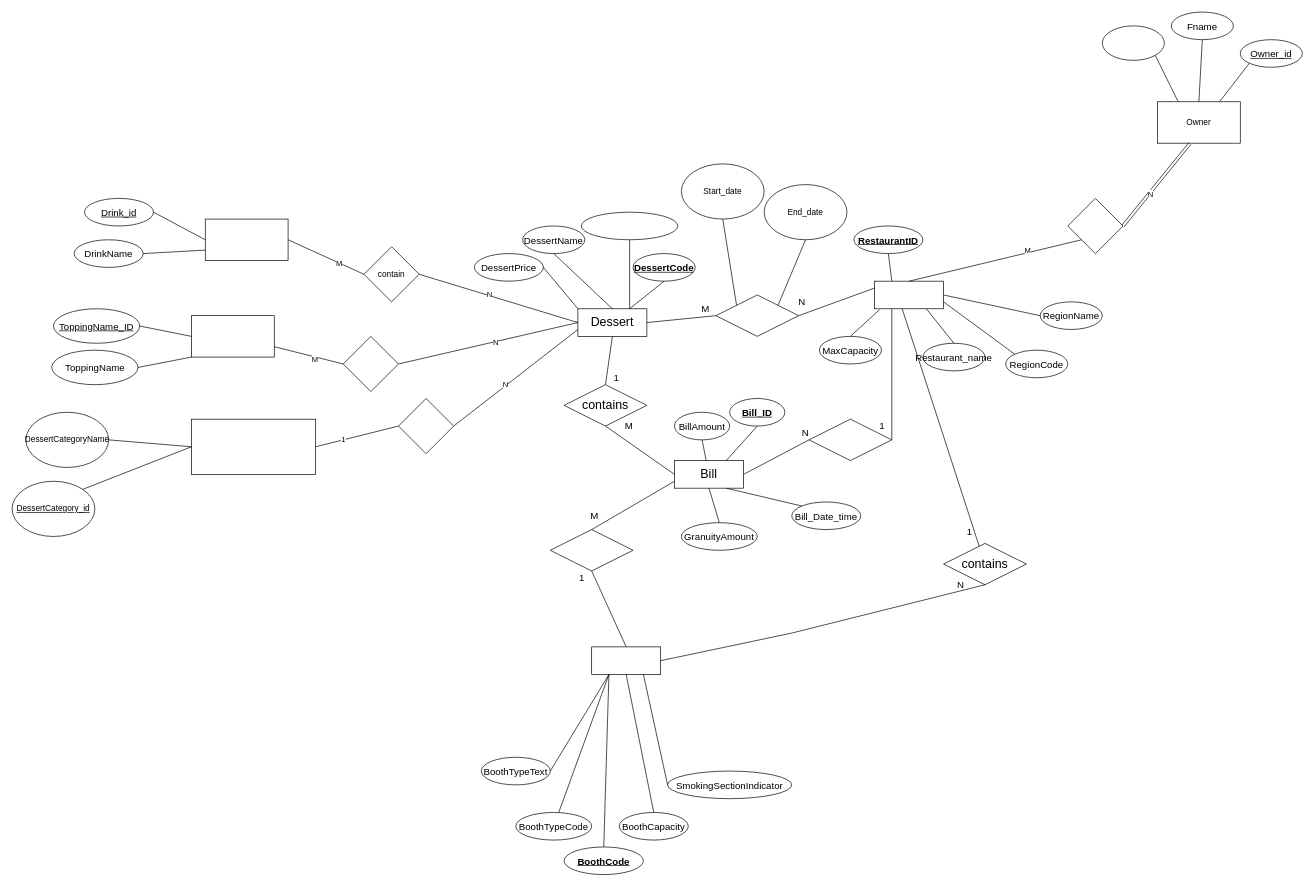
The diagram is 1314 pixels wide and 887 high, and some of its shapes have lost their labels. The box of each missing label's shape, as (x1, y1, x2, y2) in pixels:
Booth: (591, 646, 661, 674)
ddominate: (1067, 198, 1123, 254)
DessertCategory: (191, 418, 316, 474)
DessertDescription: (581, 211, 678, 240)
Drink: (205, 218, 288, 260)
Ename: (1102, 25, 1164, 60)
generate: (550, 529, 633, 571)
has: (398, 398, 454, 454)
offer: (715, 294, 799, 336)
process: (808, 418, 892, 461)
provide: (343, 336, 398, 392)
Restaurant: (874, 280, 944, 309)
Topping: (191, 315, 274, 357)
